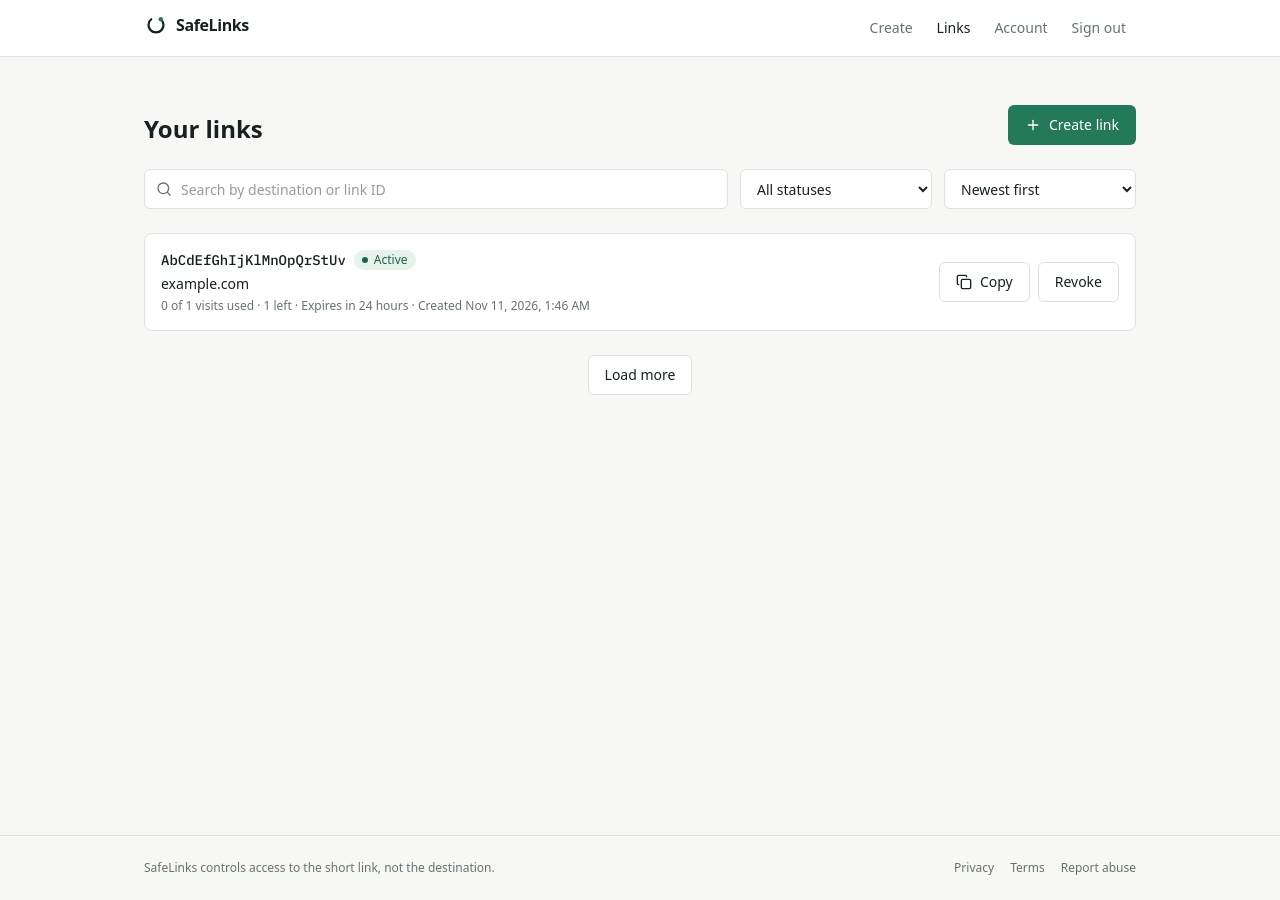
dashboard › lists links, filters by status and paginates
Check: the link "AbCdEfGhIjKlMnOpQrStUv" is shown, box [161, 250, 346, 270]
Check: the text "0 of 1 visits used · 1 left" is shown, box [161, 297, 590, 314]
Click the button "Load more" at point(640, 375), box [588, 355, 692, 395]
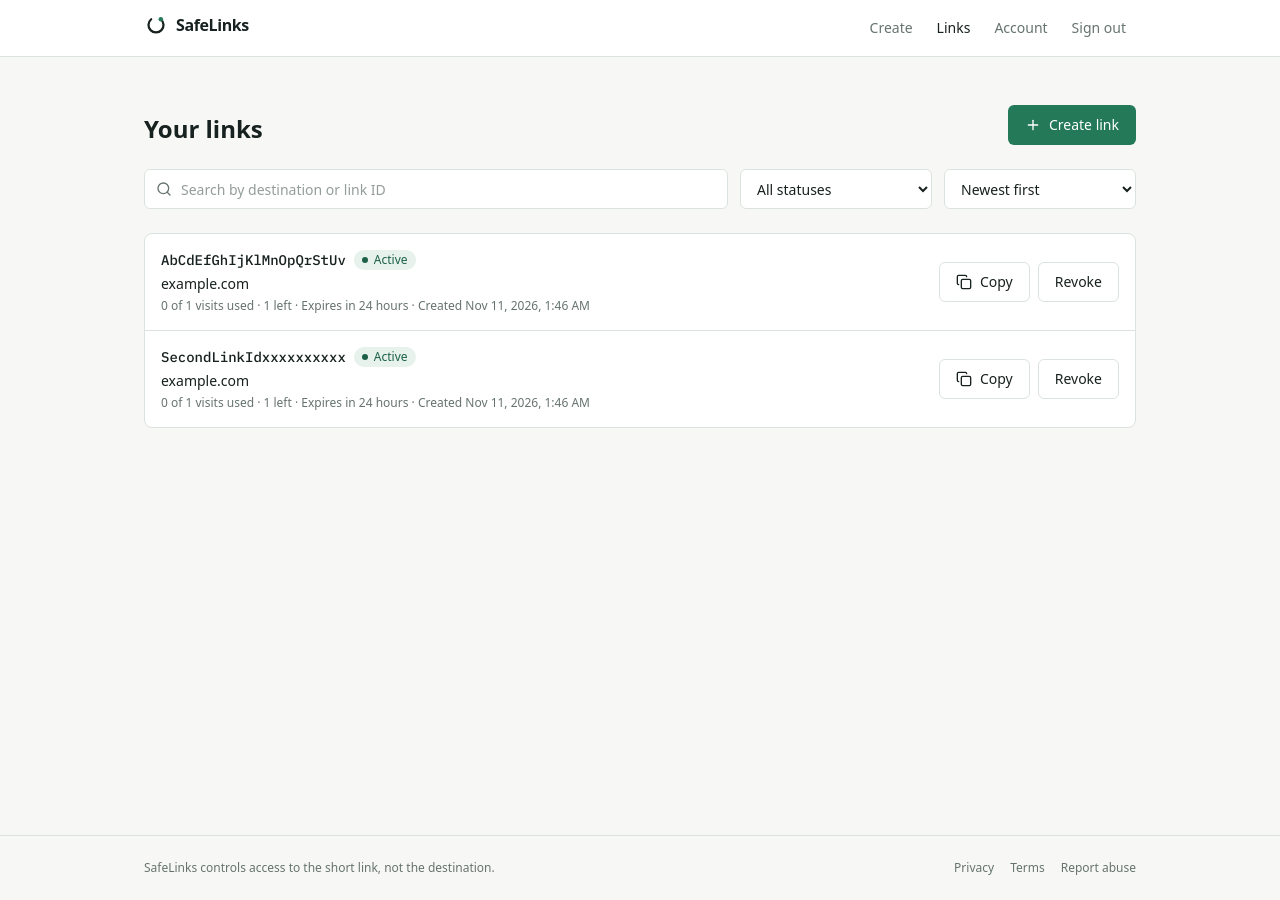
Check: the link "SecondLinkIdxxxxxxxxxx" is shown, box [161, 347, 346, 367]
Check: the button "Load more" is gone
Select "Revoked" in the 1st dropdown named "Status" at point(836, 189), box [740, 169, 932, 209]
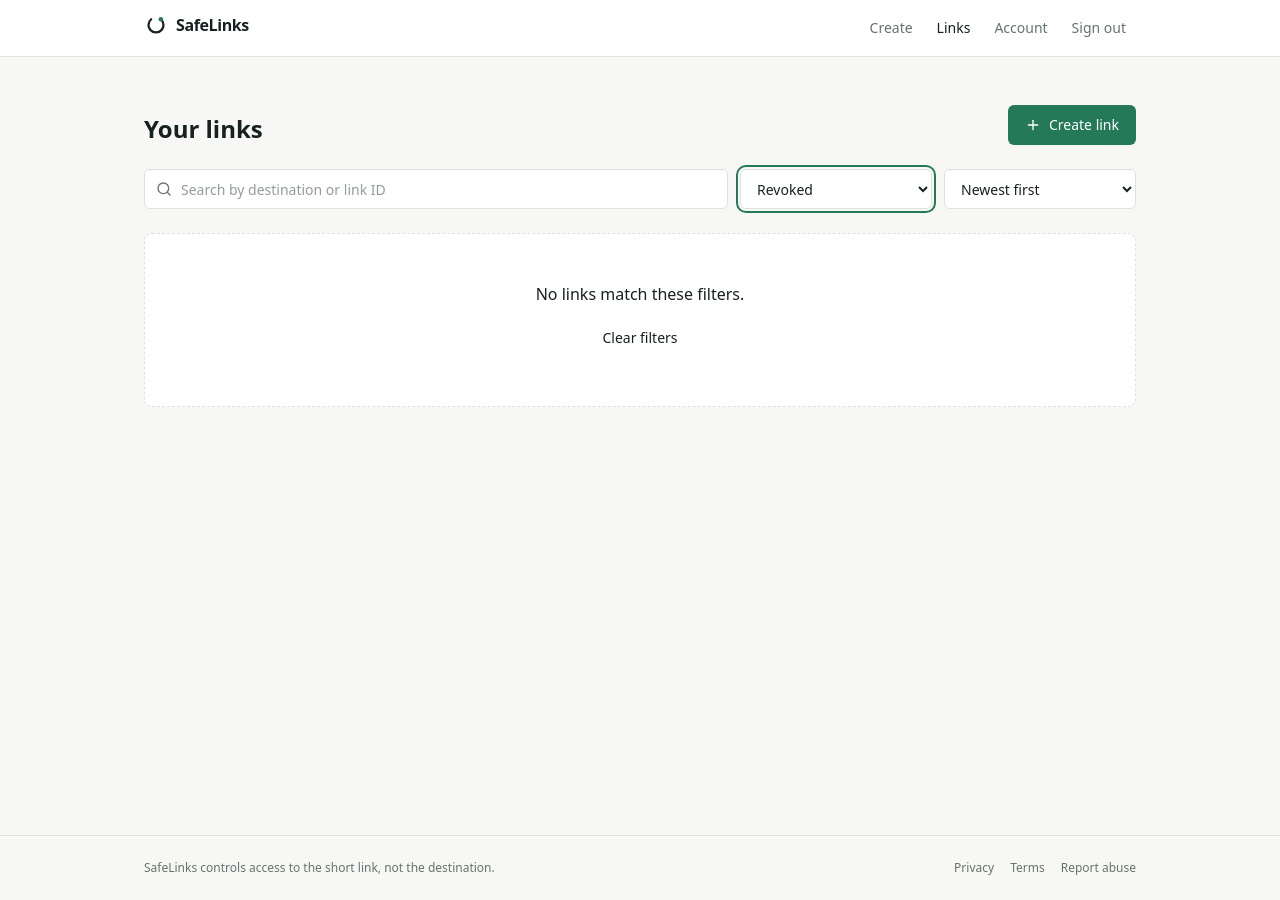
Check: the text "No links match these filters." is shown, box [536, 283, 744, 305]
